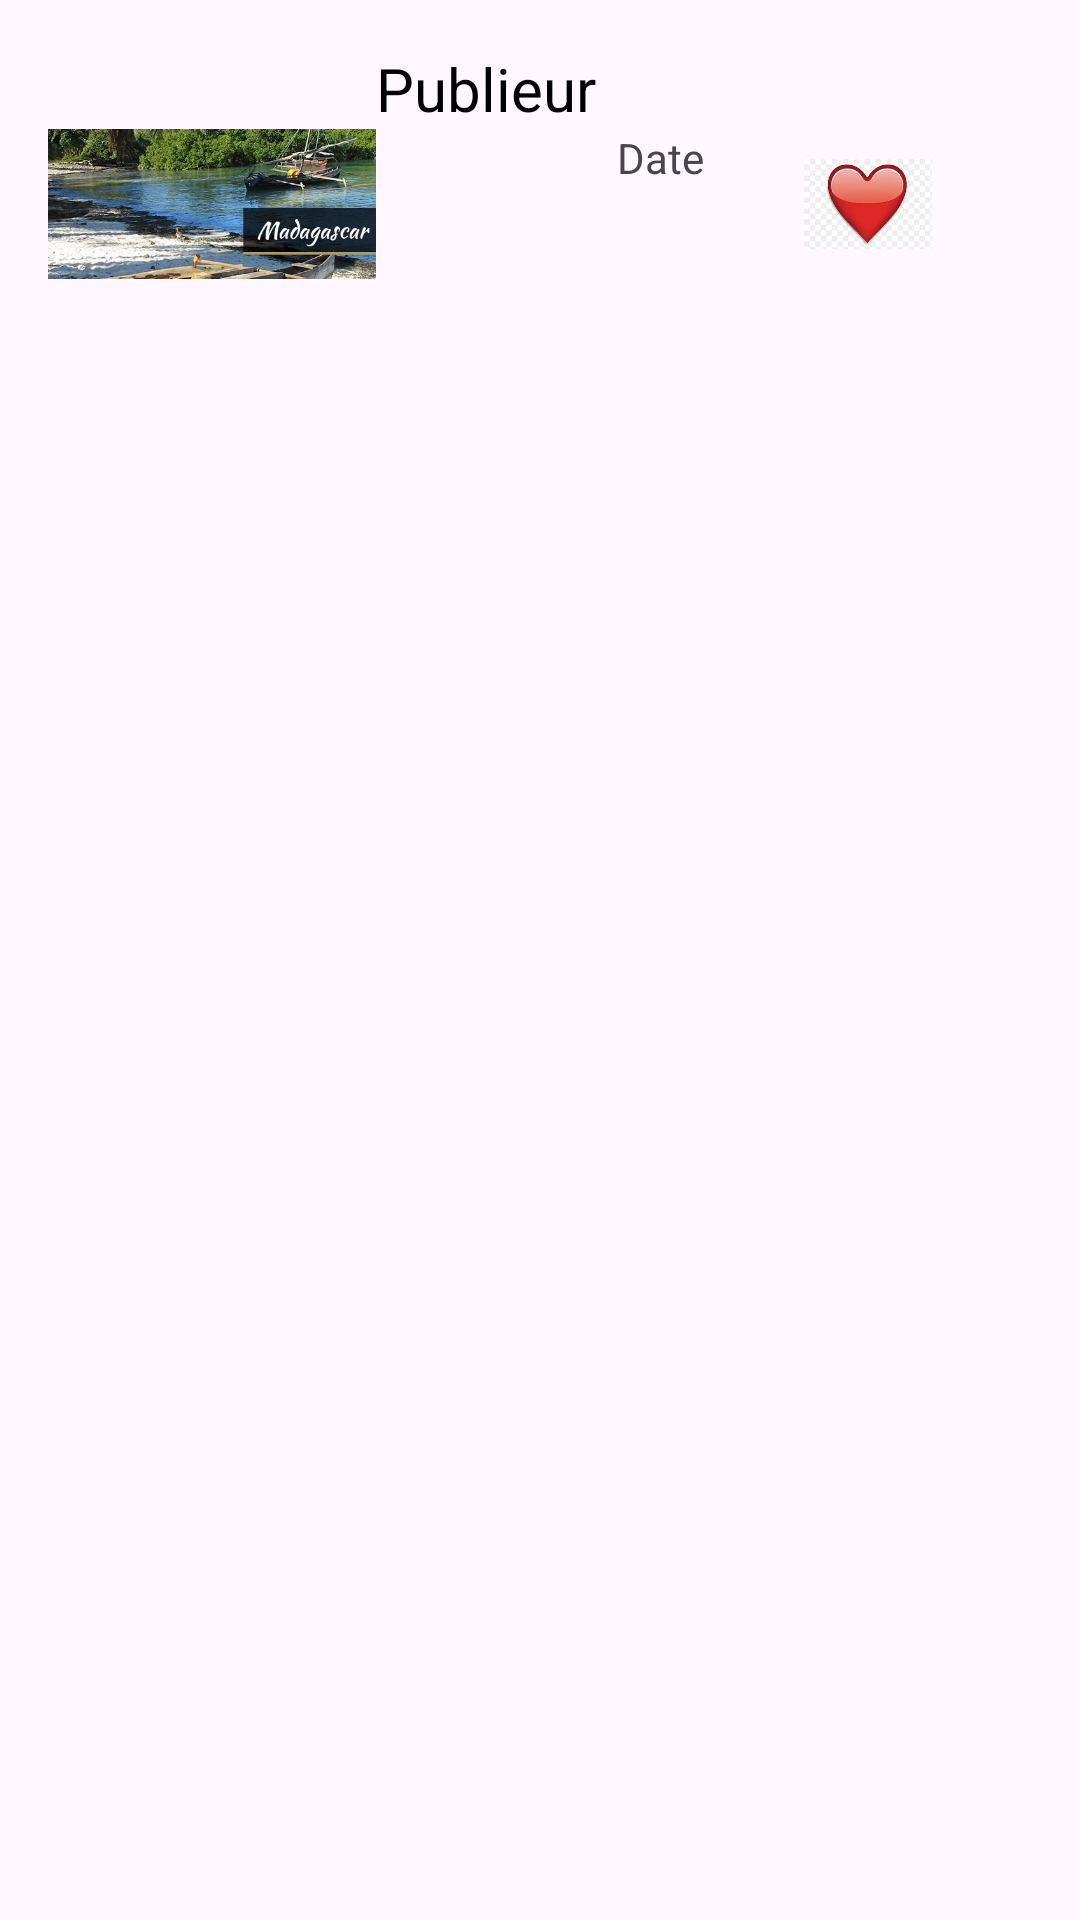

Icon bounding boxes for this 1080*1920 phone screenshot, format bbox(x1, y1, x2, y2):
coeur: bbox(814, 160, 912, 244)
